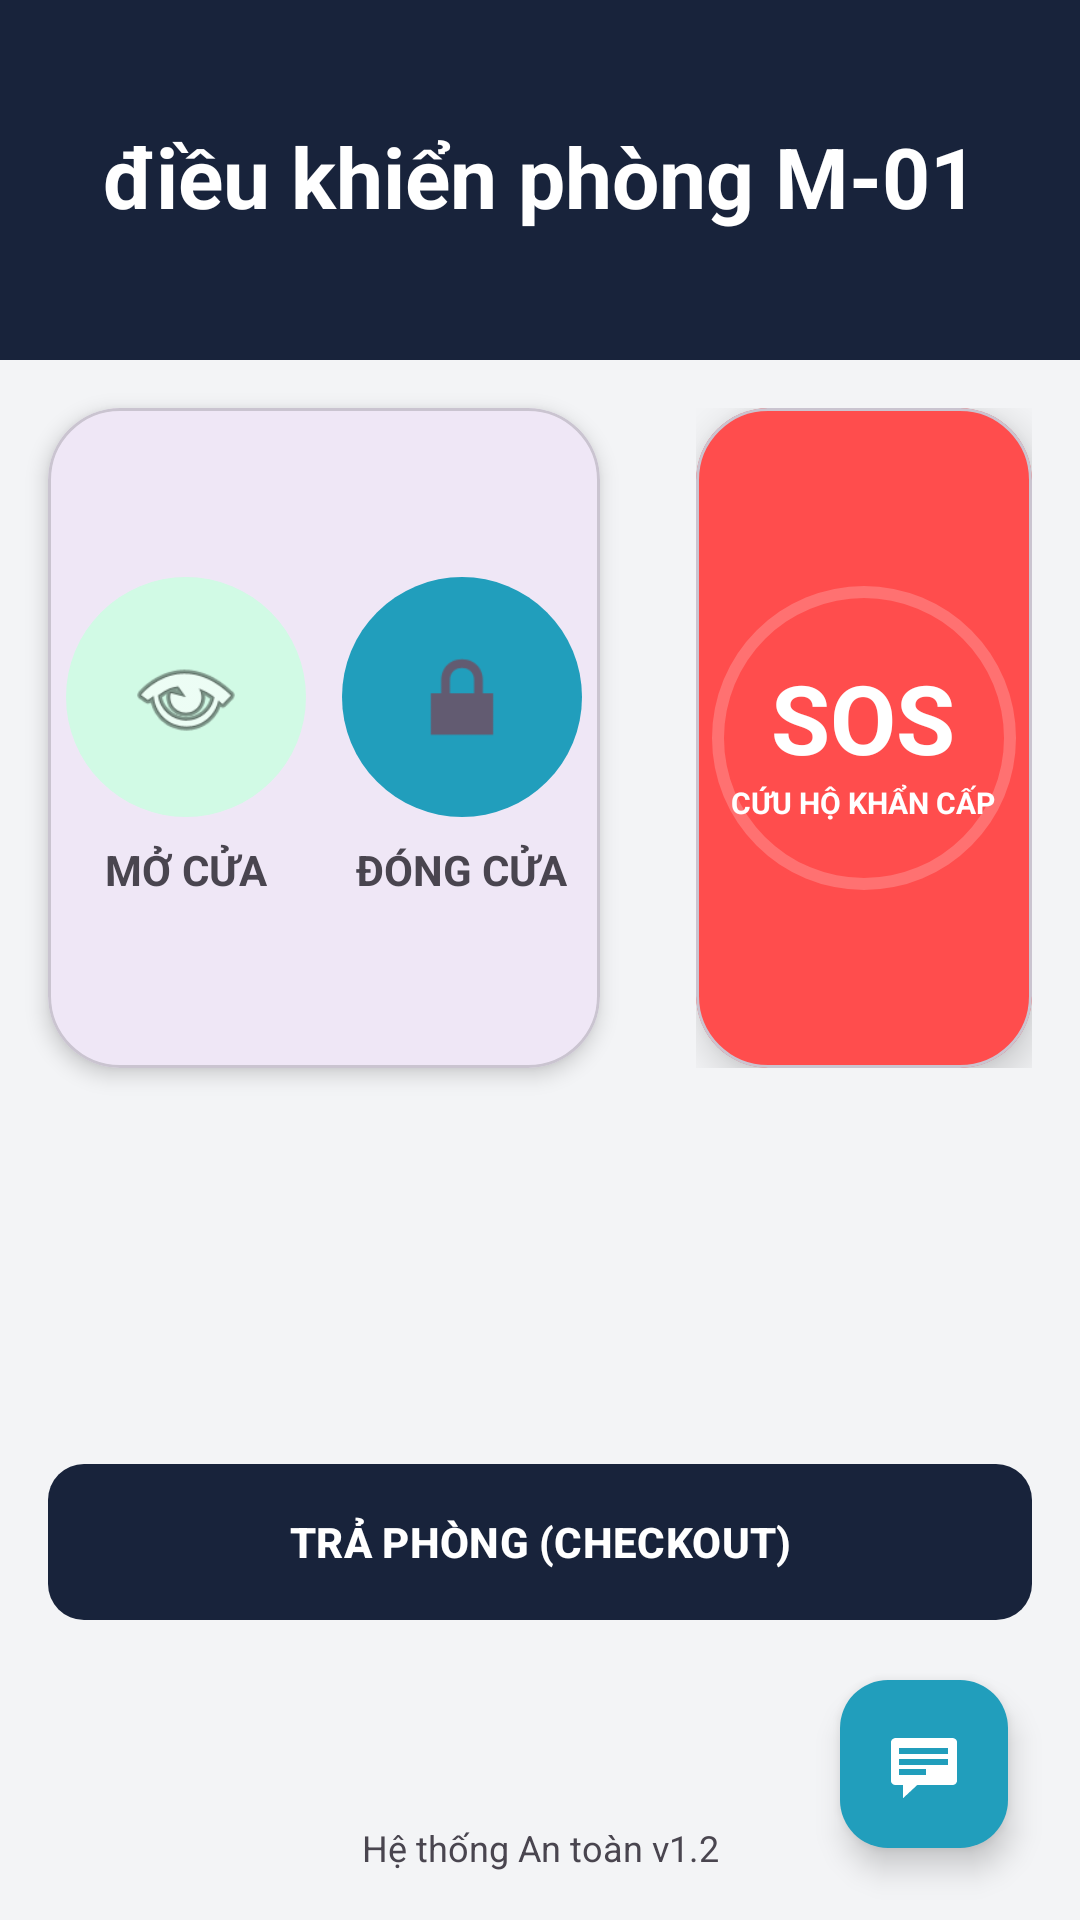

Point at icon controls on the screen. Image size 1080px×1920px, points as [x,y].
Chat với lễ tân: [924,1764]
lock: [462,697]
view: [186,697]
